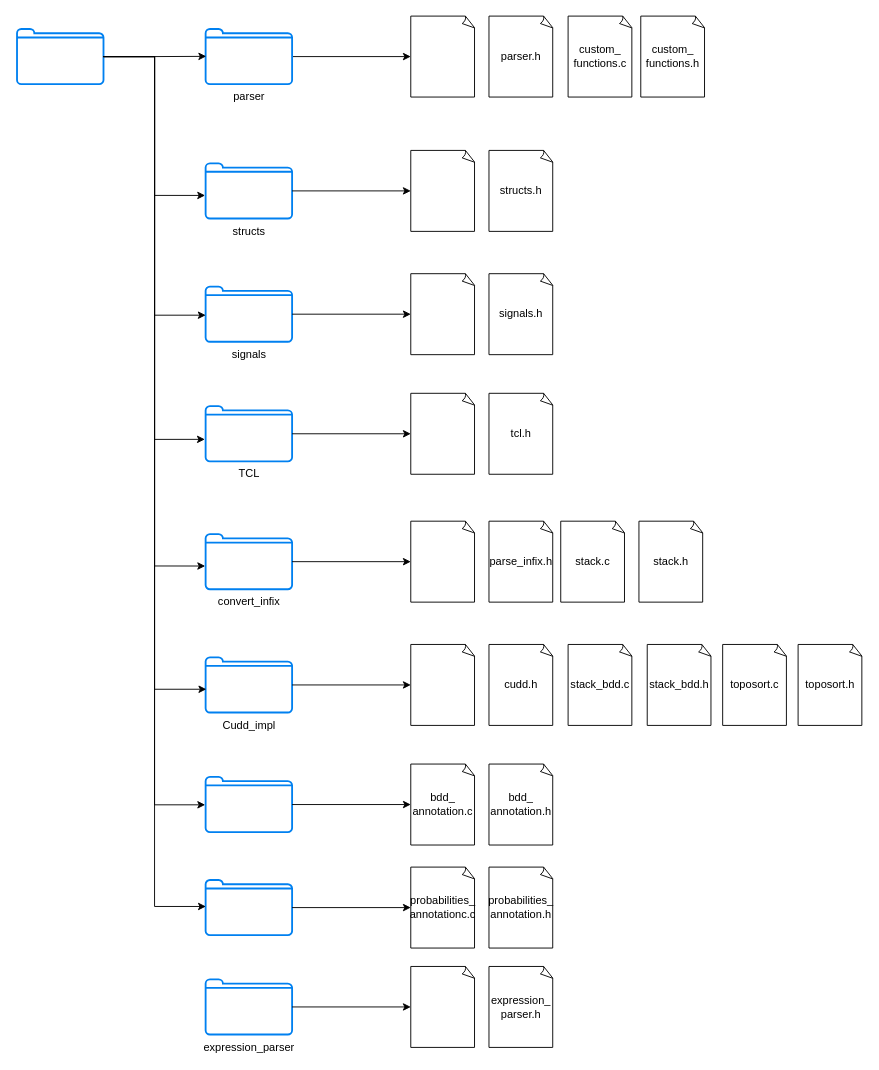
Image size: 879x1070. Some labels were removed from this diagram. The centre of each missing label's shape, as x and y in pixels:
"bdd_annotation" belongs at (248,804).
"cad_tool" belongs at (60,56).
"cudd.c" belongs at (442,684).
"expression_ parser.c" belongs at (442,1006).
"parse_infix.c" belongs at (442,561).
"parser.c" belongs at (442,56).
"probabilities_annotations" belongs at (248,907).
"signals.c" belongs at (442,314).
"structs.c" belongs at (442,190).
"tcl.c" belongs at (442,433).
